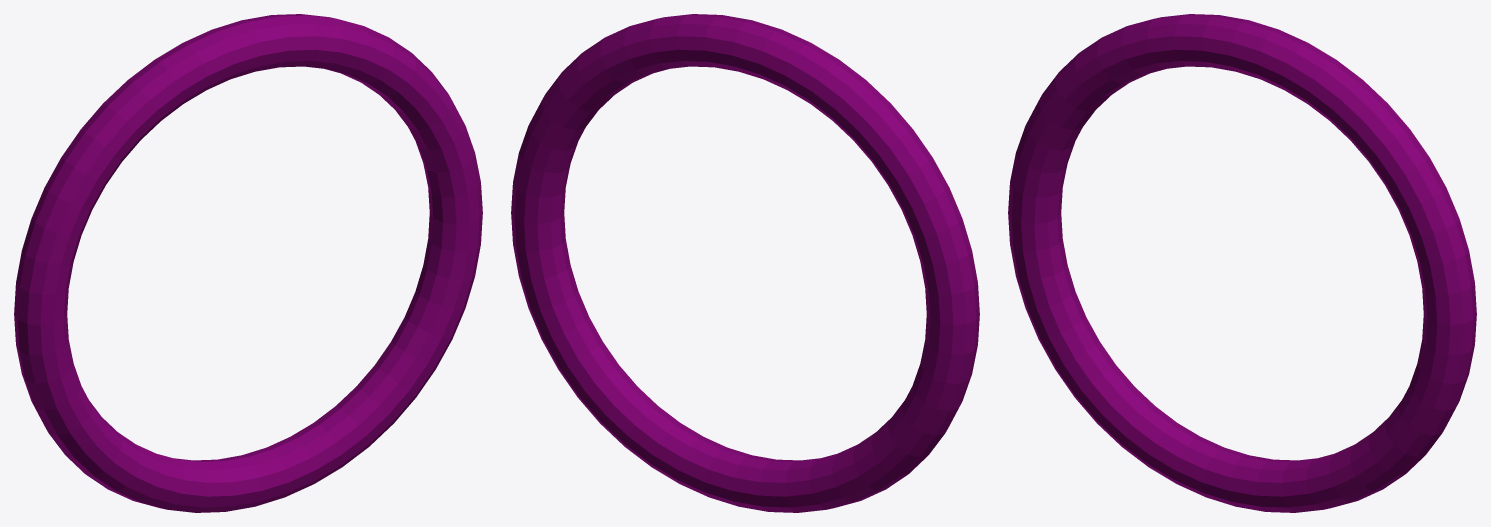
Rendered from ring_visual.OBJ.
The picture shows the model from 3 angles, left to right: view 1: azimuth 30°, elevation 25°; view 2: azimuth 150°, elevation 25°; view 3: azimuth 330°, elevation 25°; orthographic projection.
Parts seen in each view (by area): view 1: /ambf/env/phantom/ring_visual; view 2: /ambf/env/phantom/ring_visual; view 3: /ambf/env/phantom/ring_visual.
Part boxes in pixels (x1,y1,x2,y2): /ambf/env/phantom/ring_visual: (14, 14, 482, 512); /ambf/env/phantom/ring_visual: (511, 14, 979, 512); /ambf/env/phantom/ring_visual: (1008, 14, 1476, 512).
Size of the model in its own units: 0.1644 by 0.1644 by 0.0164.
